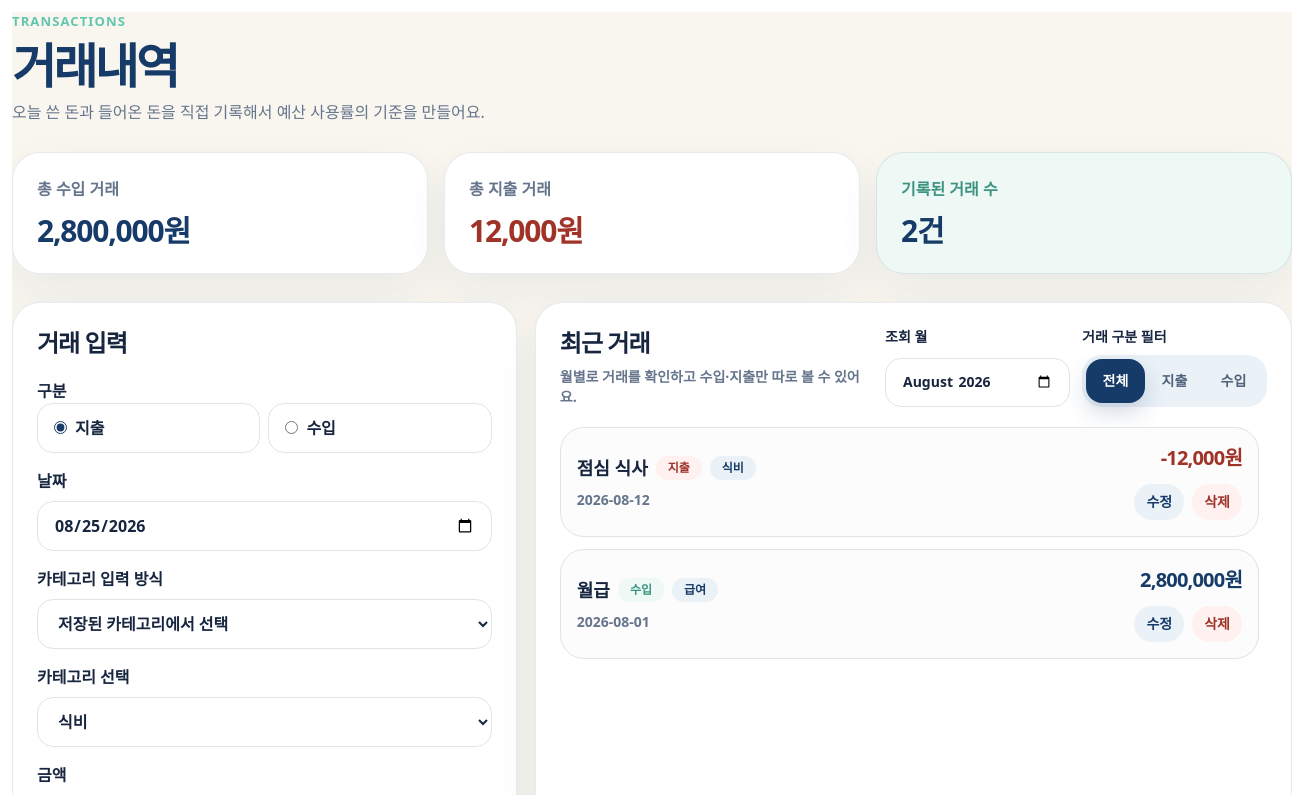
Test: TransactionsPage › loads transactions again when the month filter changes
The image size is (1292, 795).
Expected: the text "점심 식사" is shown, [577,454,648,482]
Replace the text in the field labelled "조회 월" with "2026-07" at [978, 382], box [885,358,1070,406]
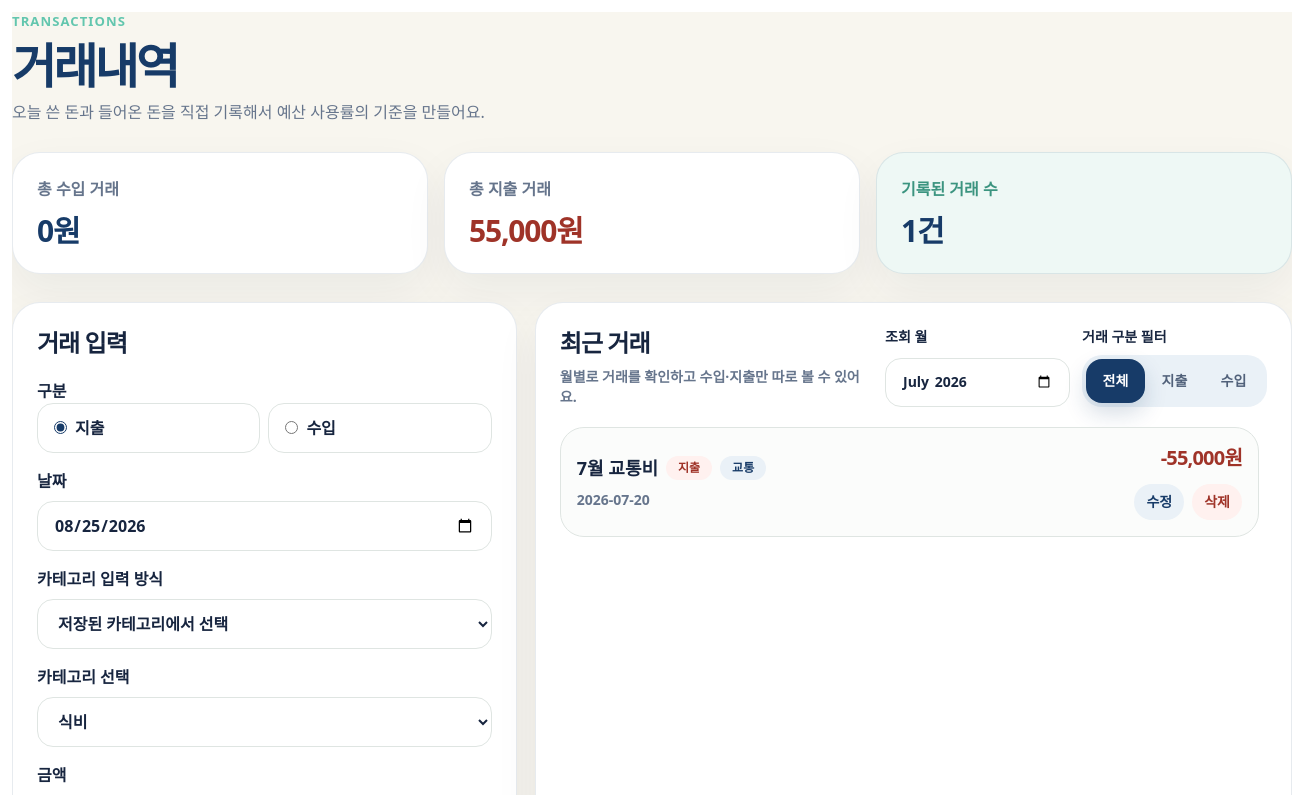
Now the text "7월 교통비" is shown, box [577,454,658,482]
